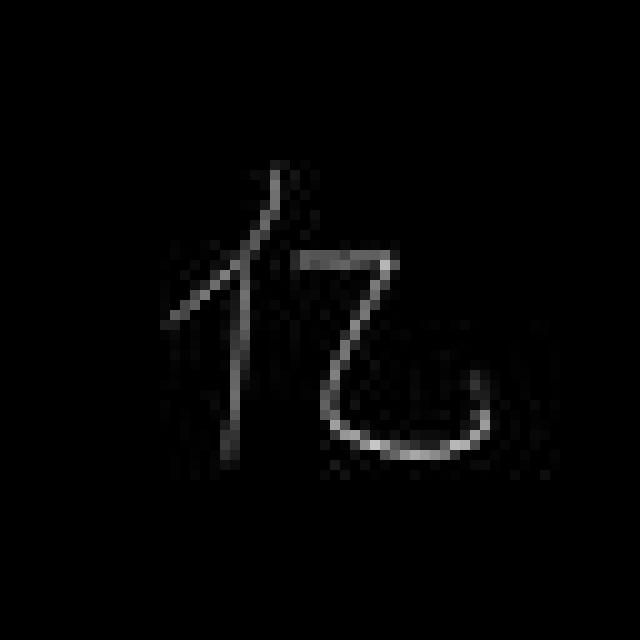100000 -a hundred thousand-: (161, 153, 502, 478)
